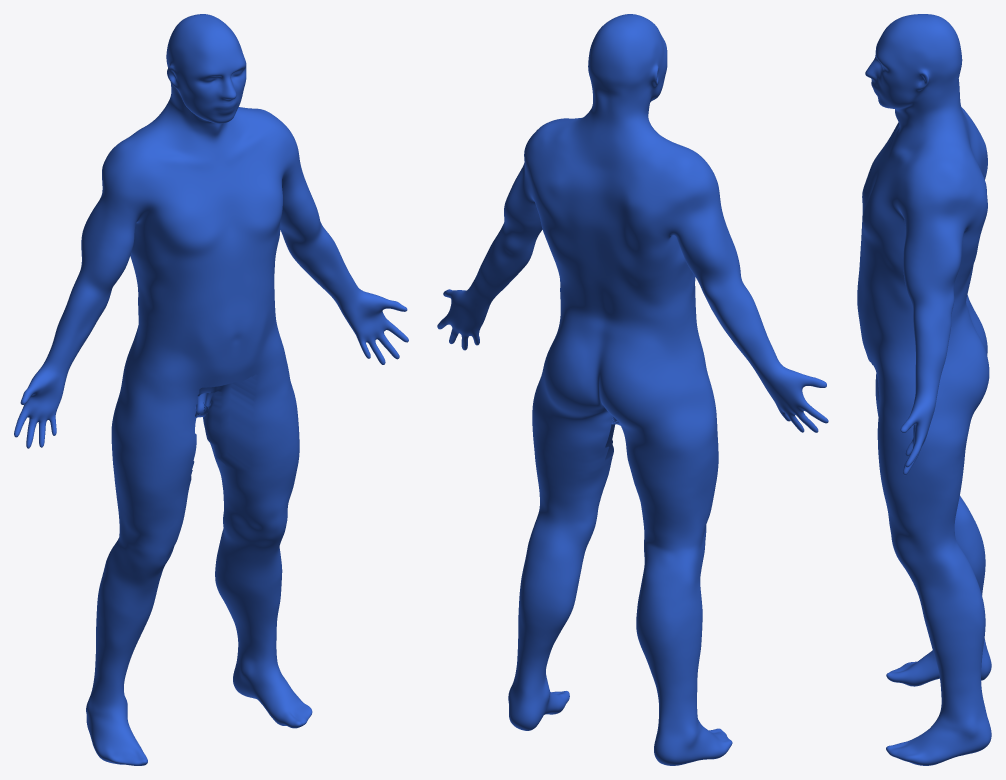
The model's file is VH_M_Skin.glb.
3 renders of one model, left to right at view 1: azimuth 30°, elevation 25°; view 2: azimuth 150°, elevation 25°; view 3: azimuth 270°, elevation 25°, orthographic. The views are drawn at different scales.
Visible parts, largest first — view 1: VH_M_skin; view 2: VH_M_skin; view 3: VH_M_skin.
Boxes of the visible parts, box(x1,y1,x2,y2) form: VH_M_skin: box(14, 14, 408, 765); VH_M_skin: box(437, 14, 828, 765); VH_M_skin: box(857, 14, 991, 765).
Size of the model in its own units: 1.05 by 1.83 by 0.3162.
